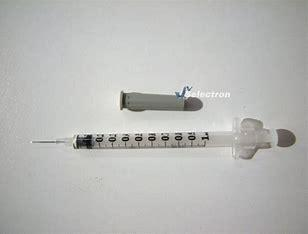Syringe: (27, 112, 308, 168)
